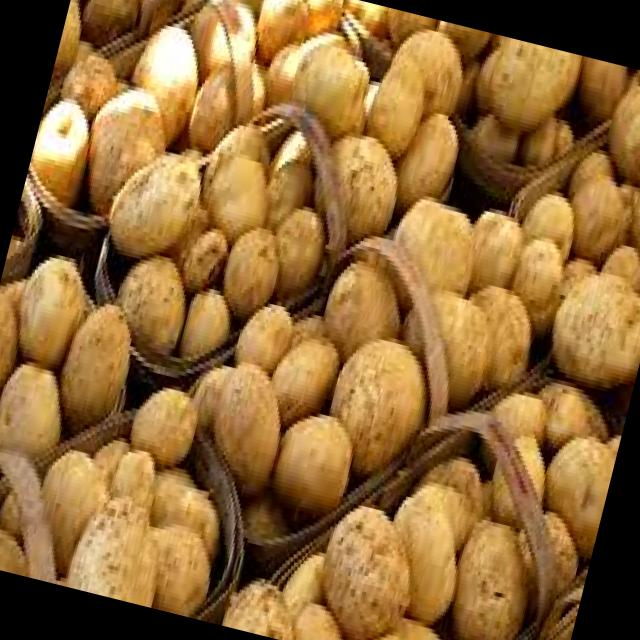Potato: (307, 493, 429, 640), (188, 353, 303, 507), (36, 286, 148, 438), (528, 245, 640, 397), (64, 86, 182, 230), (318, 322, 433, 468), (371, 482, 483, 628), (306, 101, 418, 246), (394, 278, 505, 408), (63, 482, 176, 607), (98, 145, 208, 272), (384, 174, 488, 298), (526, 415, 622, 547), (308, 245, 418, 360), (282, 23, 382, 147), (118, 24, 212, 155), (449, 509, 542, 640), (480, 35, 590, 142), (100, 243, 200, 360), (384, 90, 466, 216), (121, 369, 214, 478), (7, 258, 92, 376), (23, 85, 104, 202), (26, 434, 109, 548), (353, 49, 433, 162), (160, 274, 248, 374), (0, 349, 76, 463), (209, 221, 290, 325), (498, 216, 578, 320), (556, 161, 636, 263), (456, 196, 530, 302), (262, 333, 346, 423), (221, 567, 306, 640), (170, 210, 242, 293), (230, 291, 298, 375), (518, 176, 582, 259), (246, 0, 324, 68)
